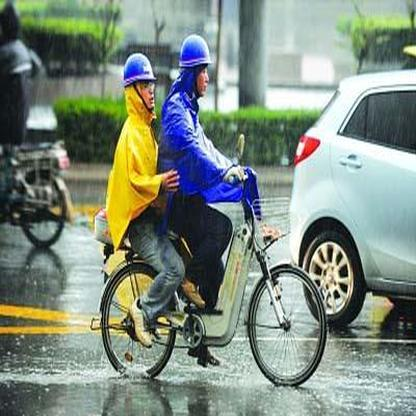target: (85, 26, 329, 392)
